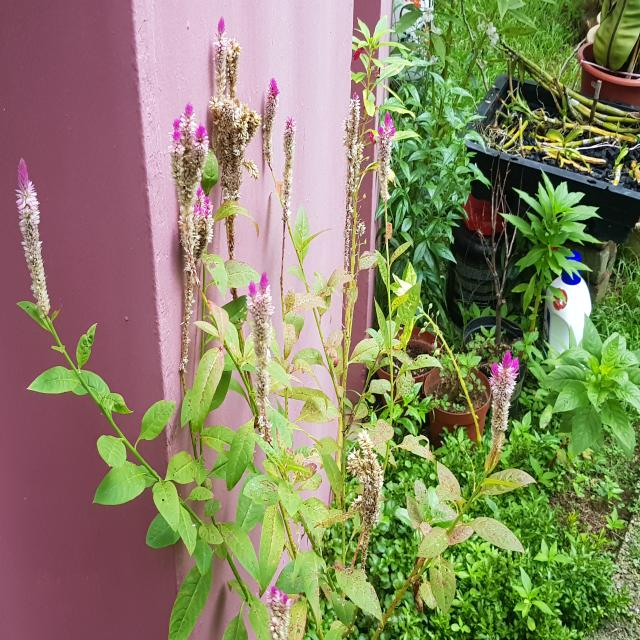Celosia-Argentea: (204, 12, 258, 233), (8, 152, 63, 334), (161, 88, 206, 296), (255, 53, 303, 233), (242, 266, 274, 430), (337, 422, 377, 552), (254, 568, 301, 640), (486, 342, 516, 454), (340, 90, 365, 199), (371, 106, 396, 208)
